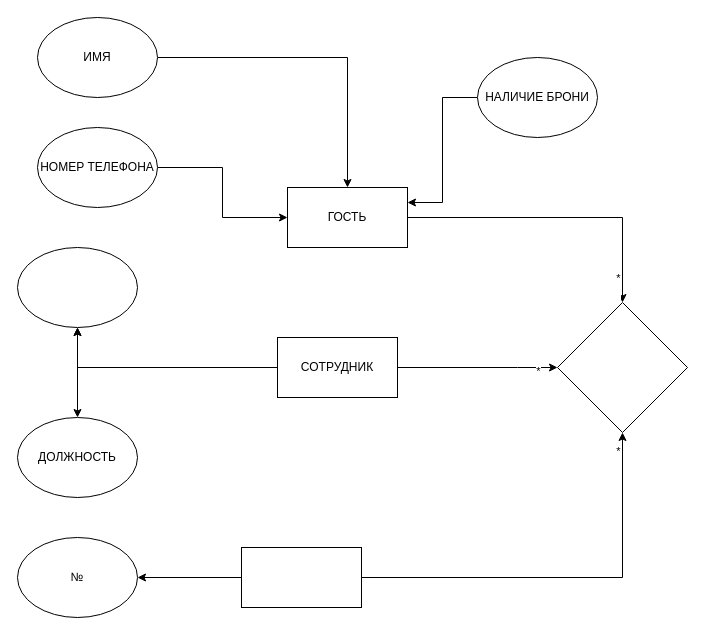
Image size: 705x635. Some labels were removed from this diagram. Each missing label, with the centre of its shape:
БРОНЬ: pixel 622 367
СТОЛ: pixel 301 577
ФИО: pixel 77 287
